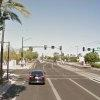Car: (23, 62, 51, 87)
